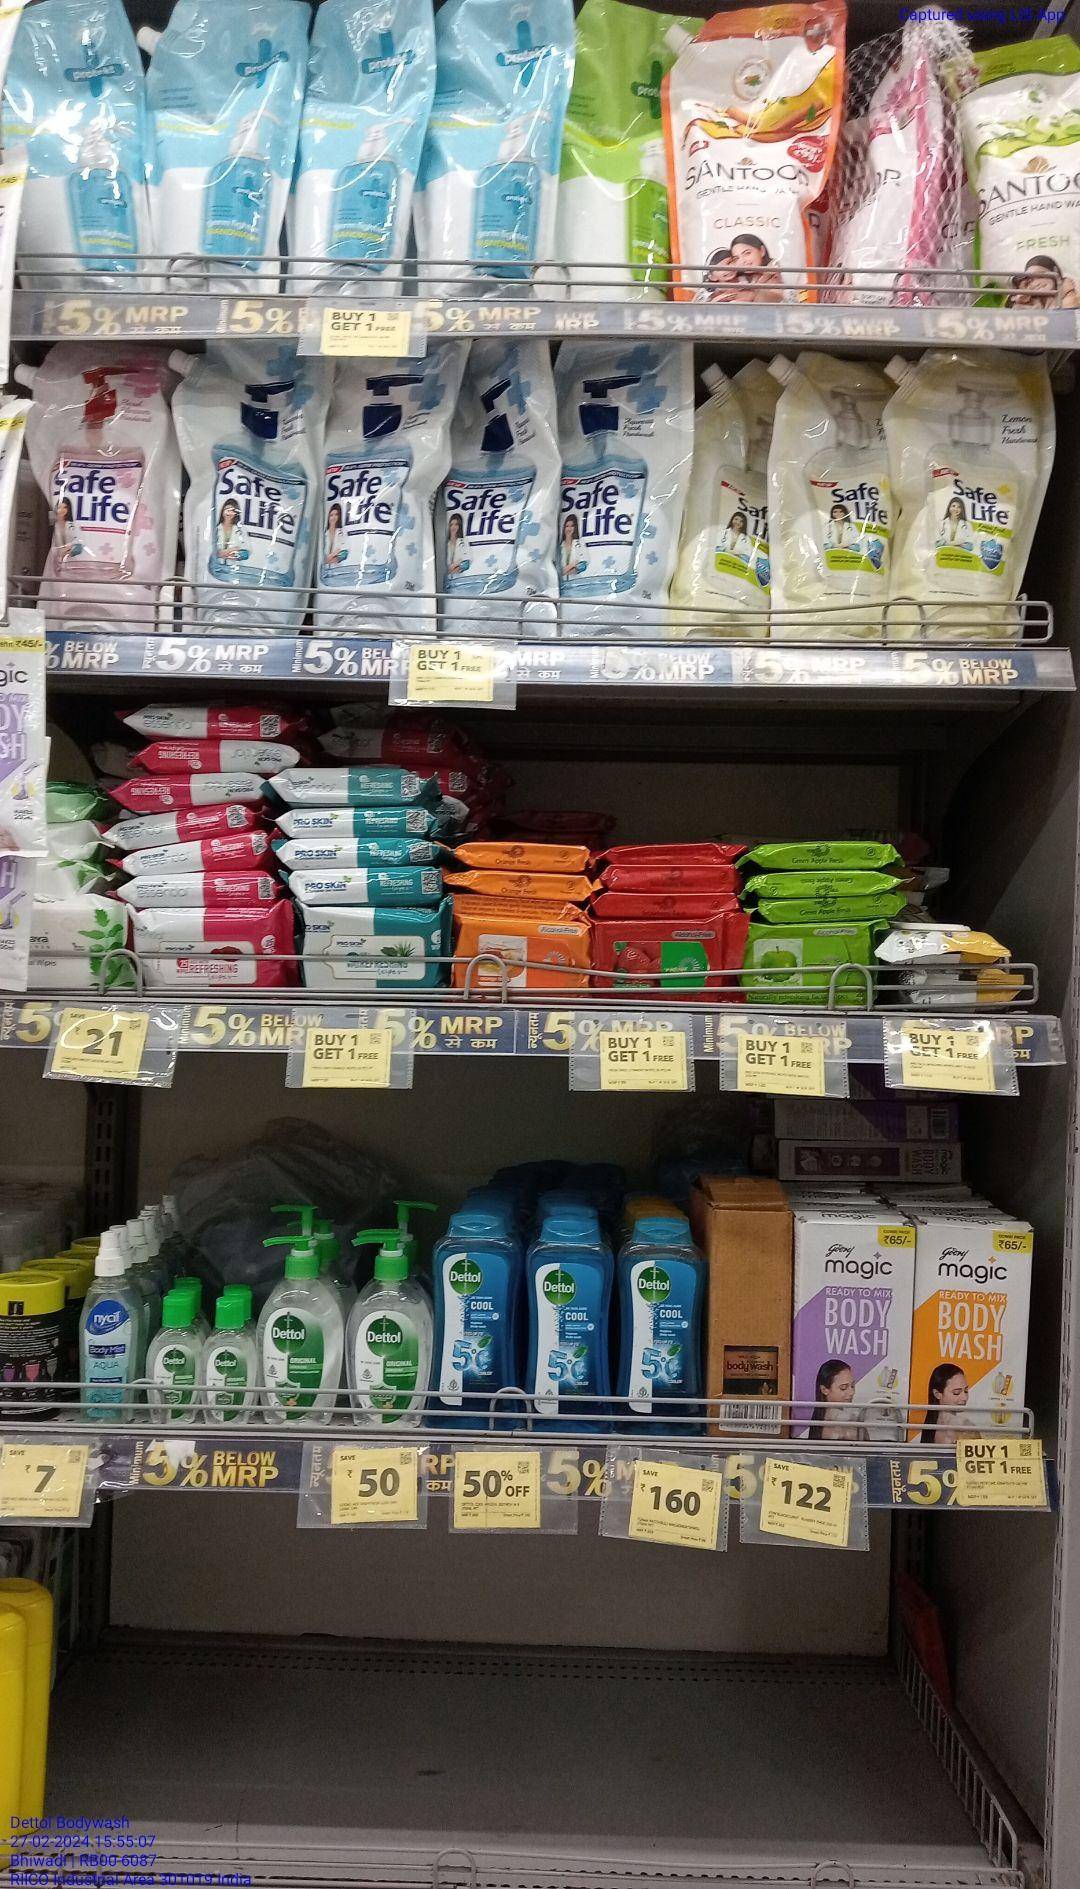Dettol_Bodywash_Cool: (434, 1207, 515, 1435), (615, 1214, 698, 1439), (531, 1225, 609, 1438)
